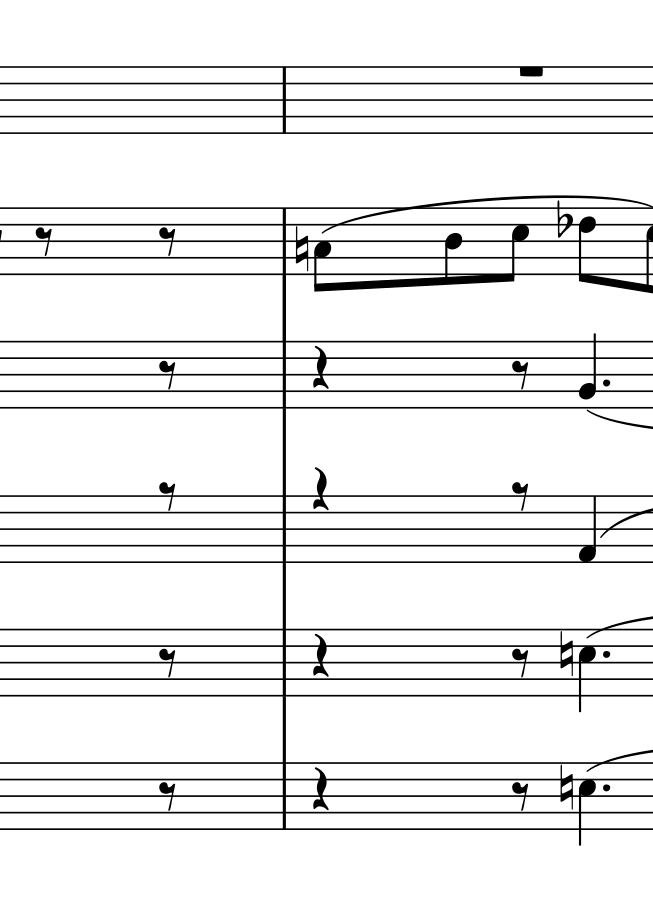4_1: (575, 493, 599, 569)
4_2: (577, 329, 598, 410)
4_5: (577, 759, 599, 850), (577, 628, 599, 714)
8_3: (313, 206, 333, 294)
8_4: (442, 206, 465, 286)
8_5: (499, 205, 531, 284)
8_6: (577, 206, 598, 286)
Flat: (554, 201, 571, 243)
Natural: (556, 758, 575, 811), (557, 625, 576, 675), (294, 225, 309, 271)
Rests1: (515, 61, 549, 80)
Rests4: (308, 765, 332, 815), (308, 344, 332, 392), (308, 630, 329, 680), (309, 463, 329, 513)
Rests8: (507, 777, 535, 815), (157, 479, 180, 515), (155, 781, 181, 812), (510, 647, 533, 679), (33, 225, 55, 258), (157, 647, 179, 680), (510, 357, 532, 390), (157, 225, 178, 259), (156, 358, 177, 392), (509, 479, 532, 510)
Single_barline: (275, 763, 294, 826), (275, 339, 292, 407), (275, 496, 293, 560), (275, 209, 293, 272), (275, 630, 292, 688), (276, 67, 292, 127)
Slur: (321, 194, 653, 236)
dot: (600, 648, 612, 661), (600, 781, 611, 794), (601, 377, 611, 390)
